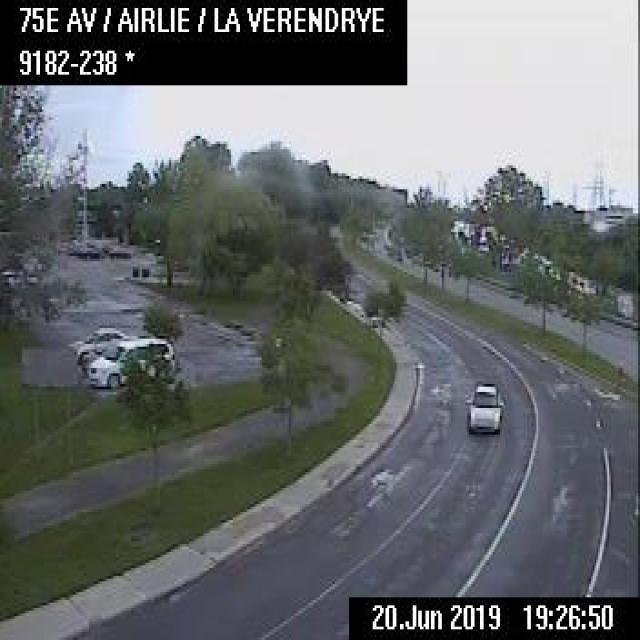vehicle: (87, 334, 172, 389), (465, 376, 504, 437), (72, 325, 136, 361), (74, 242, 103, 260), (107, 242, 131, 260)
